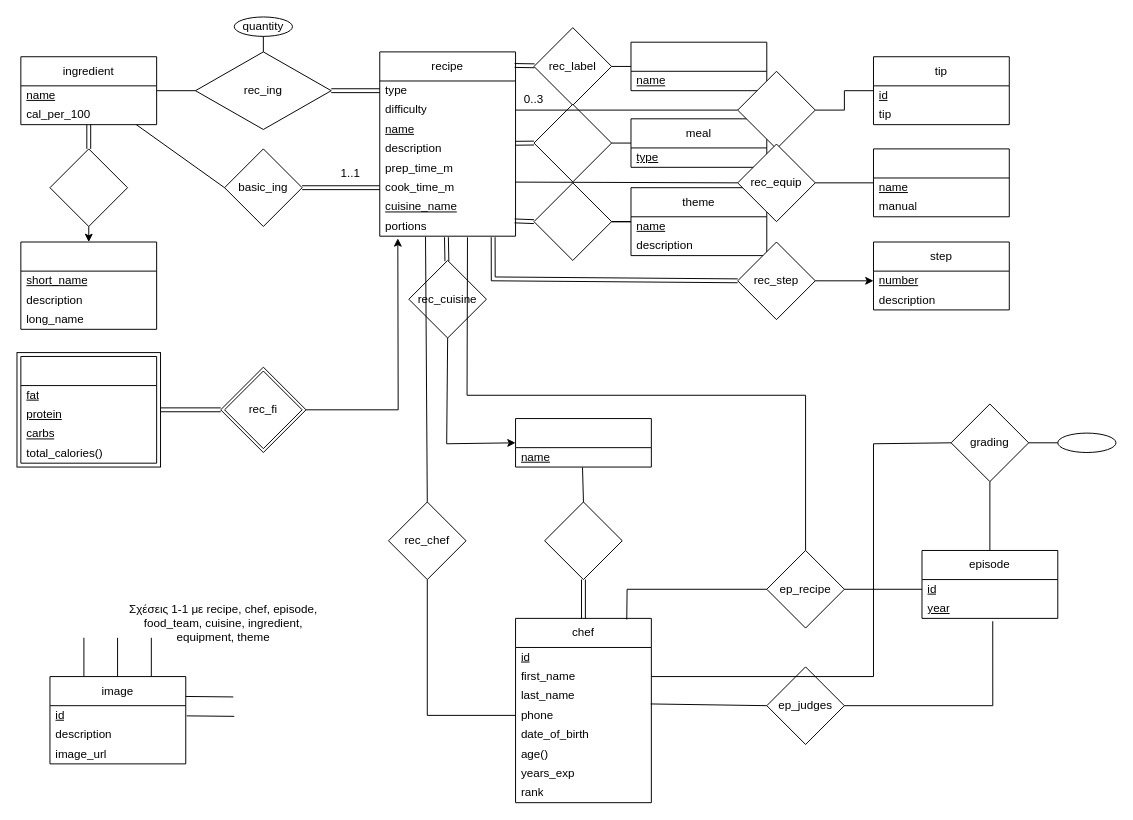
The diagram is 1133 pixels wide and 820 high, and some of its shapes have lost their labels. Here are the shapes that lost their labels. From the top down, the box of each, then its label:
(630, 41, 767, 91): label
(737, 70, 815, 149): rec_tip
(533, 103, 612, 182): rec_meal
(49, 148, 128, 226): ing_ft
(873, 148, 1009, 217): equipment
(533, 182, 612, 260): rec_theme
(20, 241, 157, 329): food_team
(20, 356, 157, 463): food_info
(515, 418, 651, 467): cuisine
(1057, 432, 1116, 453): grade
(544, 501, 622, 580): chef_cui
